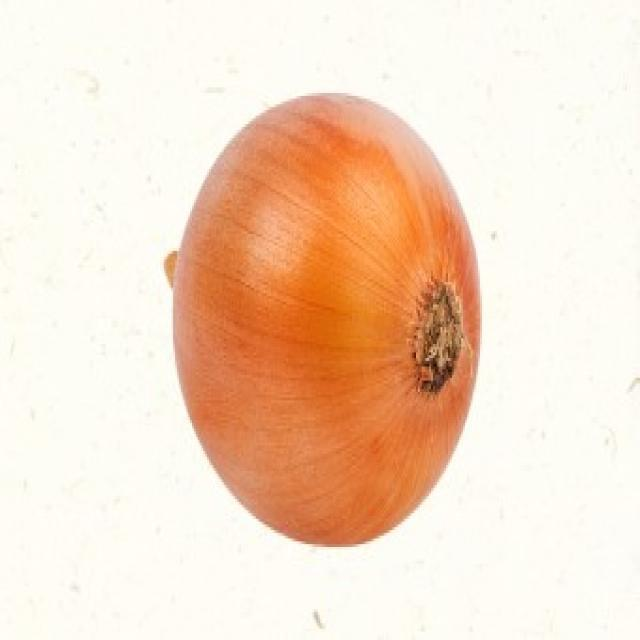Onion: (162, 93, 485, 549)
